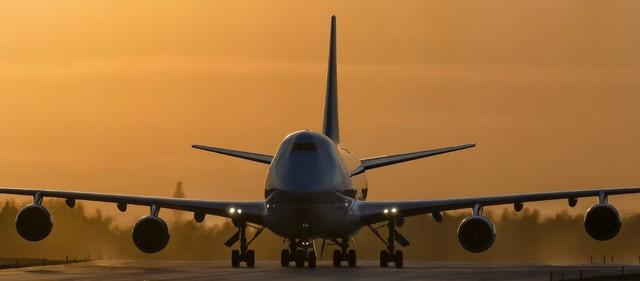airplane: (3, 18, 640, 269)
